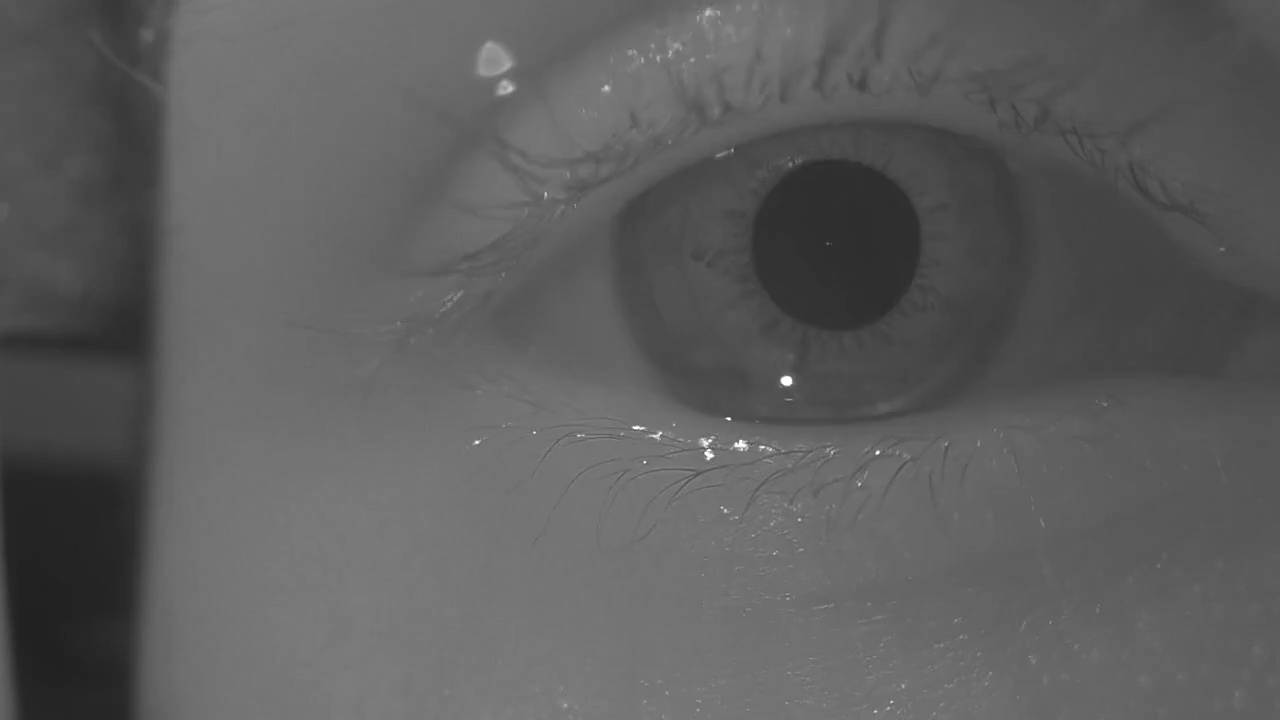pupil: (754, 158, 919, 328)
